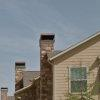Chimney: (34, 22, 60, 59)
